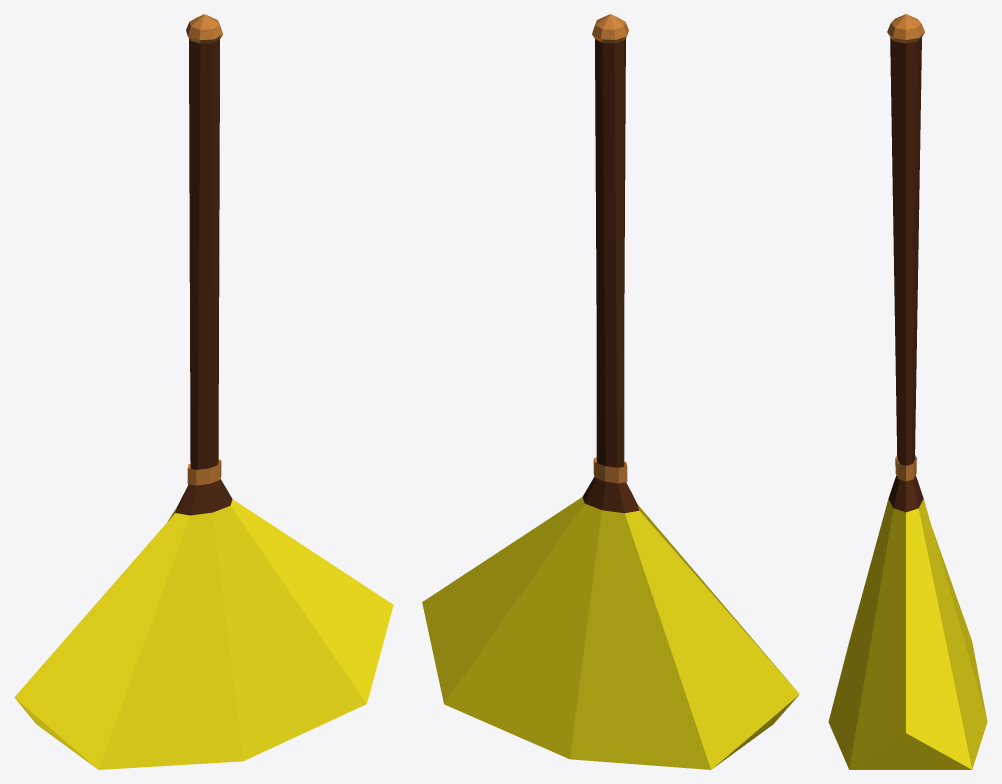
File: Broom.glb
3 views of the same model, side by side, from view 1: azimuth 30°, elevation 25°; view 2: azimuth 150°, elevation 25°; view 3: azimuth 270°, elevation 25° (orthographic).
Visible parts, largest first — view 1: Broom; view 2: Broom; view 3: Broom.
Boxes of the visible parts, box(x1,y1,x2,y2) form: Broom: box(14, 14, 393, 769); Broom: box(422, 14, 799, 769); Broom: box(828, 14, 987, 769).
Bounding box in the file's own units: 0.6503 × 1.18 × 0.2394.
